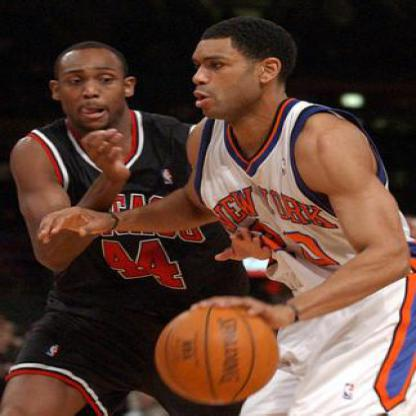face: (180, 24, 265, 121), (58, 43, 129, 134)
